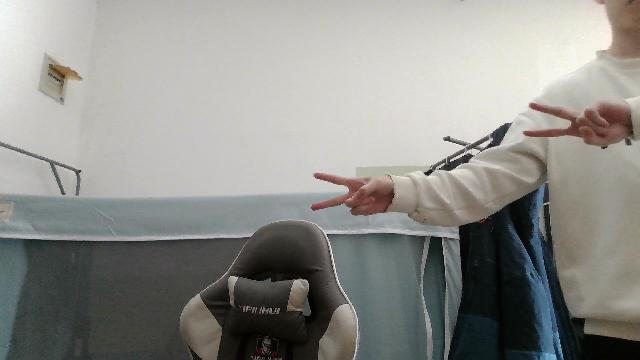yes: (524, 98, 636, 146), (312, 170, 396, 216)
